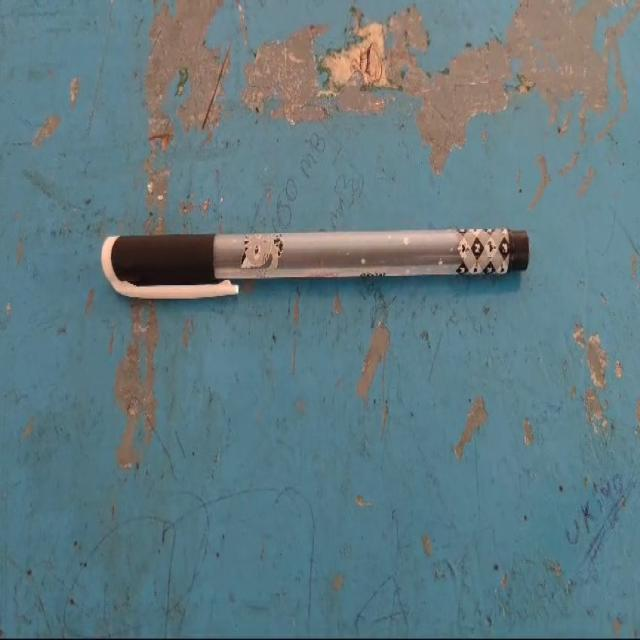pen: (65, 156, 564, 376)
